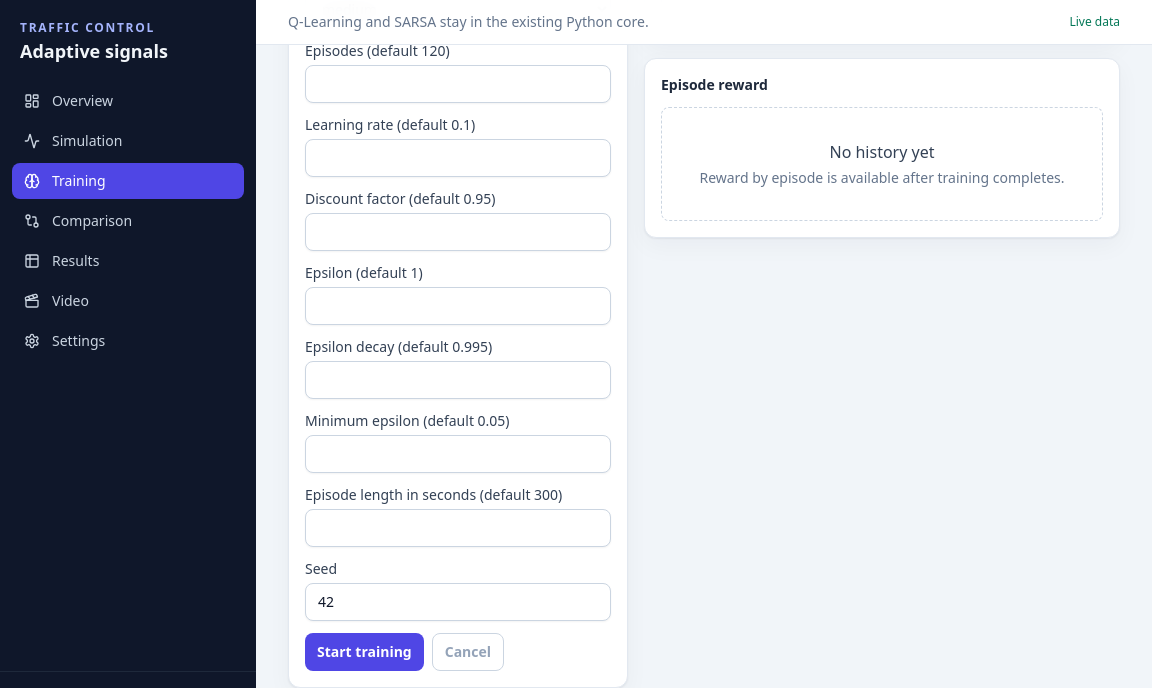
Test: application shell › shows training in progress without a fake episode count
(page scrolled)
Click the button "Start training": (364,652) [305,633,424,671]
(page scrolled)
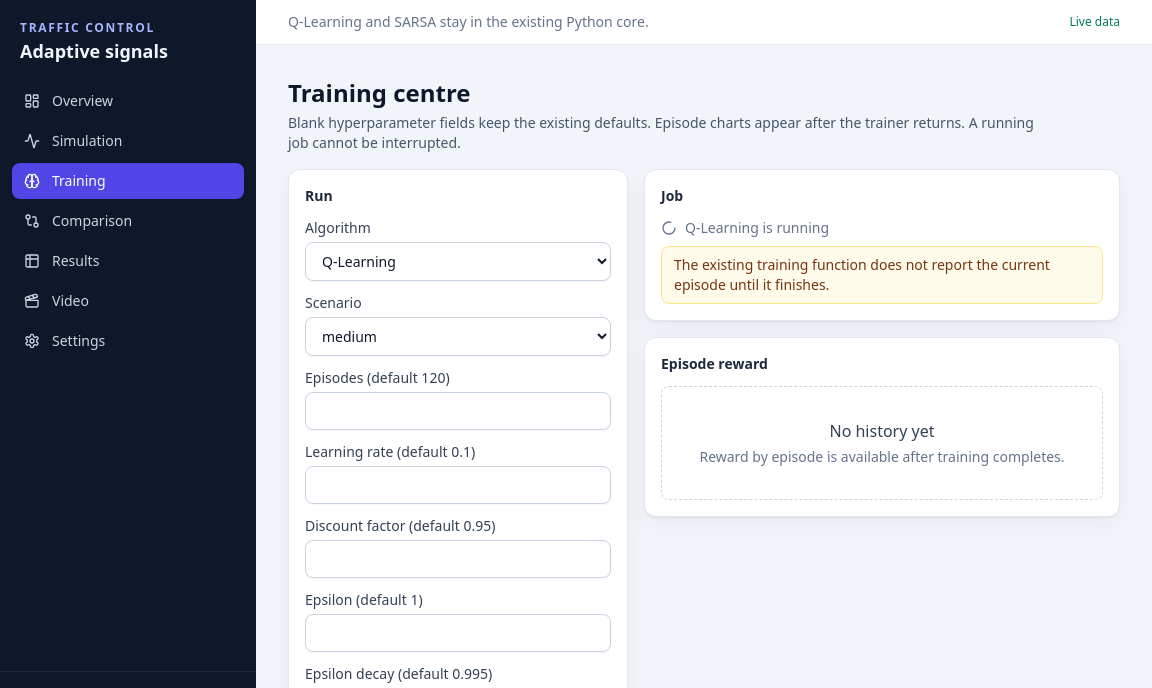
Expected: the text "Q-Learning is running" is shown, [661,218,829,237]
Expected: the text "does not report the current episode" is shown, [674,255,1050,294]
